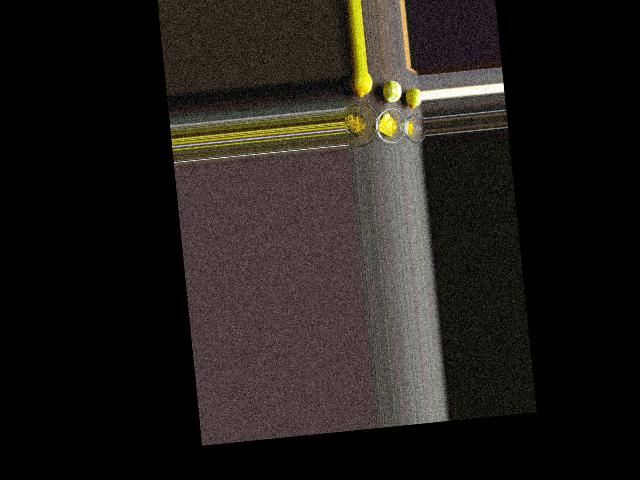lemon: (350, 73, 373, 101)
